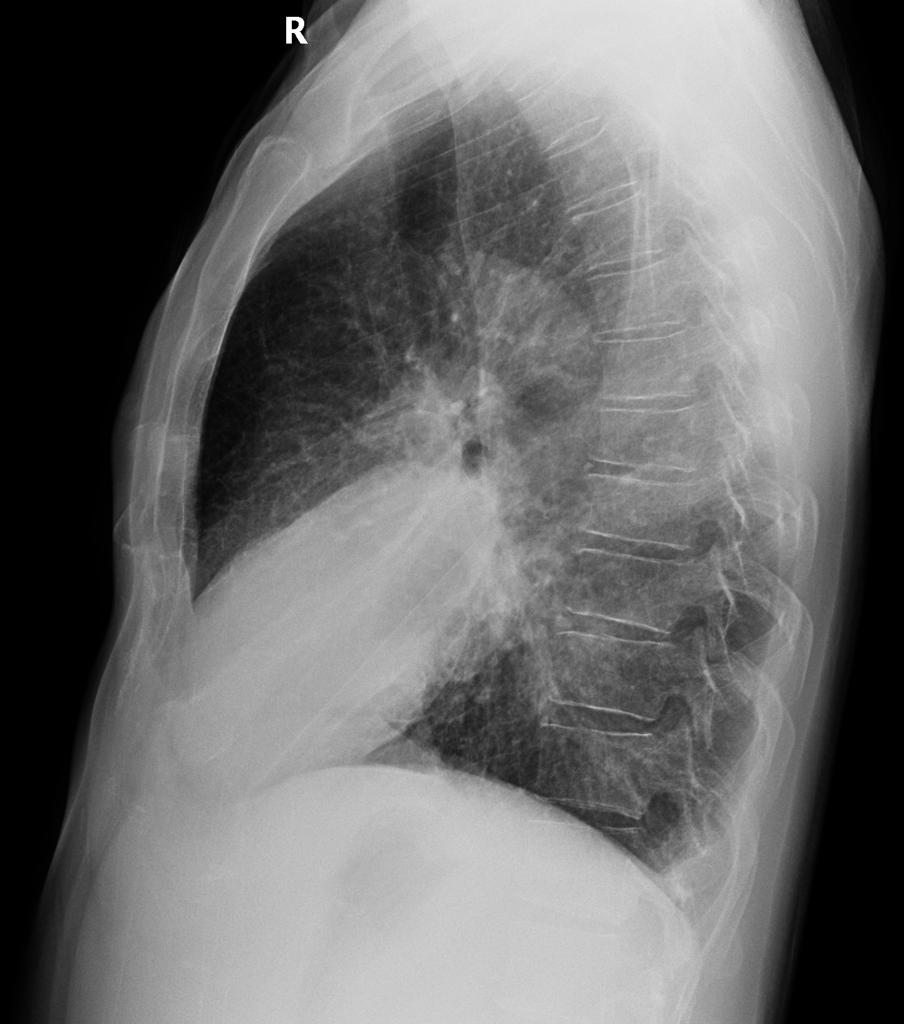cancer: (259, 144, 793, 864)
